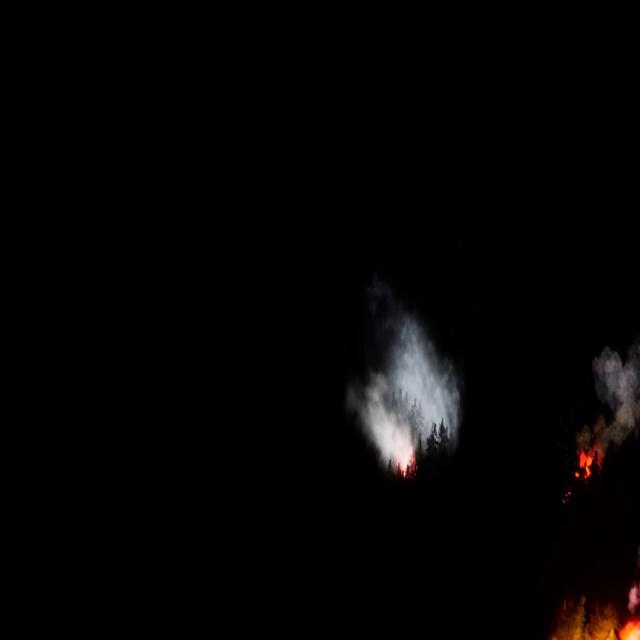fire: (564, 587, 640, 639), (574, 442, 602, 488)
smoke: (352, 312, 466, 488), (594, 341, 640, 438)
